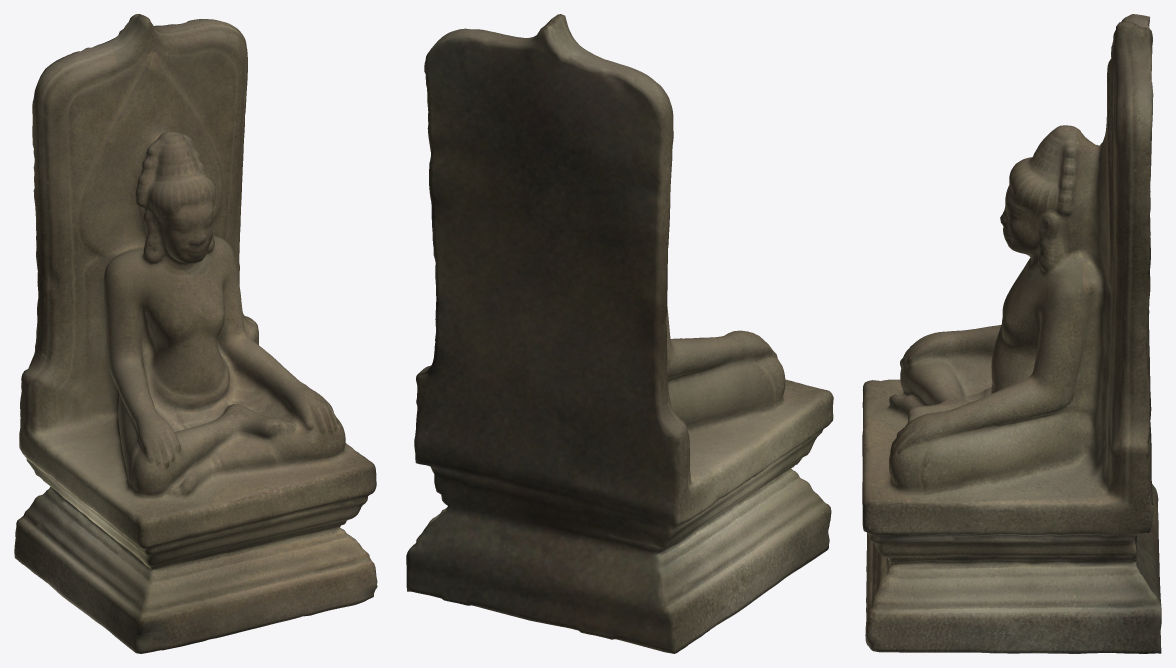
File: 19_thanphuonghuong_isana.glb
3 views of the same model, side by side, from view 1: azimuth 30°, elevation 25°; view 2: azimuth 150°, elevation 25°; view 3: azimuth 270°, elevation 25° (orthographic). The views are drawn at different scales.
Parts seen in each view (by area): view 1: remesh; view 2: remesh; view 3: remesh.
Boxes of the visible parts, x1,y1,x2,y2 form: remesh: (14,14,377,653); remesh: (406,14,833,653); remesh: (862,14,1161,653).
Size of the model in its own units: 0.3764 by 0.7769 by 0.3705.
1 material, 1 textured.
